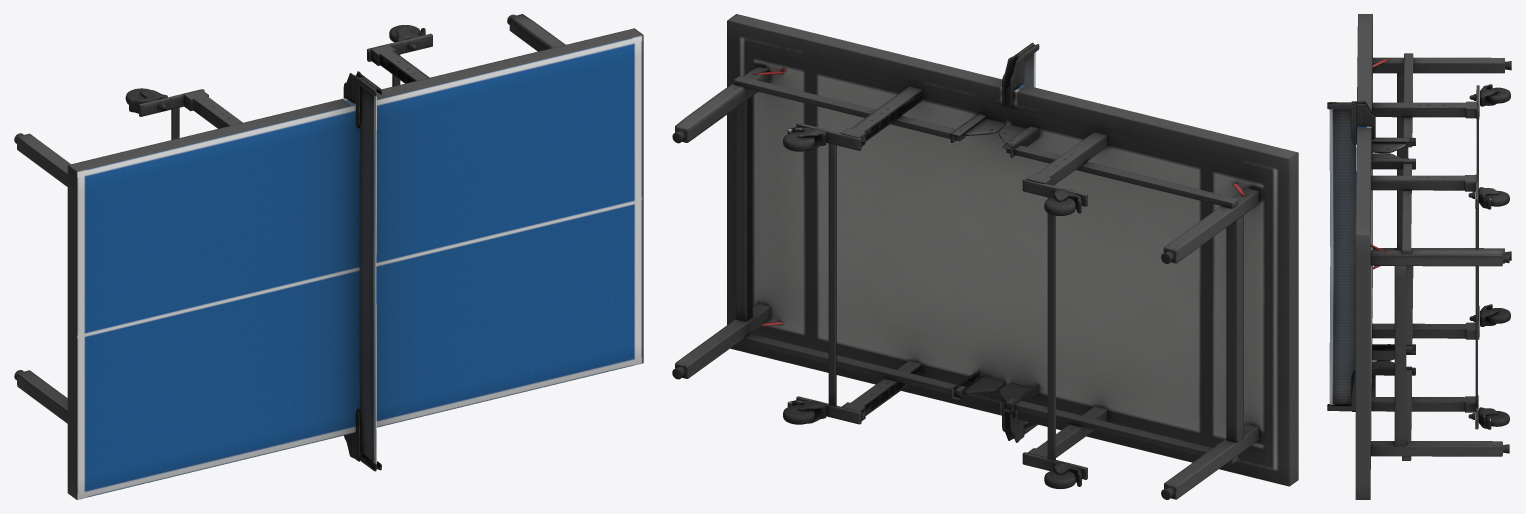
File: pingpong.glb
3 views of the same model, side by side, from view 1: azimuth 30°, elevation 25°; view 2: azimuth 150°, elevation 25°; view 3: azimuth 270°, elevation 25° (orthographic). The views are drawn at different scales.
Visible parts, largest first — view 1: 10520_pingpongtable_L2; view 2: 10520_pingpongtable_L2; view 3: 10520_pingpongtable_L2.
Part boxes in pixels (x1,y1,x2,y2): 10520_pingpongtable_L2: (14,14,643,499); 10520_pingpongtable_L2: (672,14,1298,499); 10520_pingpongtable_L2: (1327,14,1511,499).
Bounding box in the file's own units: 276 × 179 × 96.99.
1 material, 1 textured.
